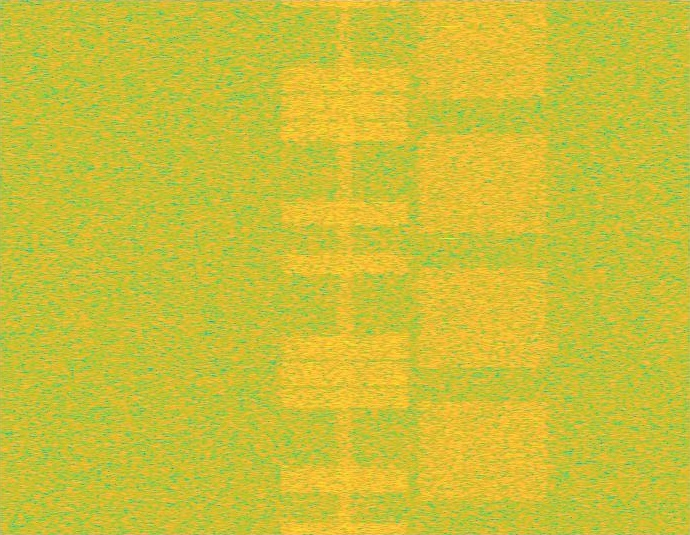5G: (414, 0, 552, 534)
DSSS: (336, 0, 354, 534)
LTE: (276, 0, 414, 534)
Radar: (442, 0, 456, 534)
